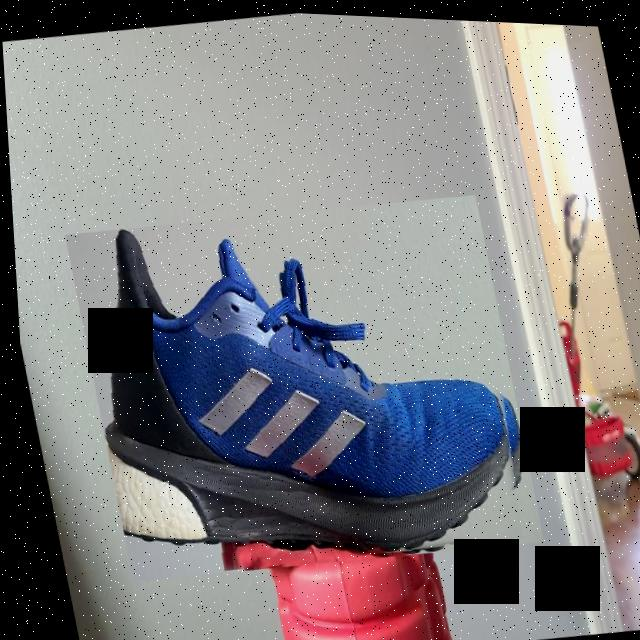shoe: (59, 176, 541, 595)
